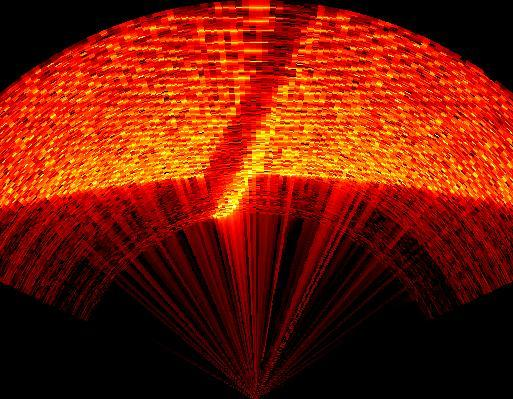pipe: (202, 3, 325, 218)
